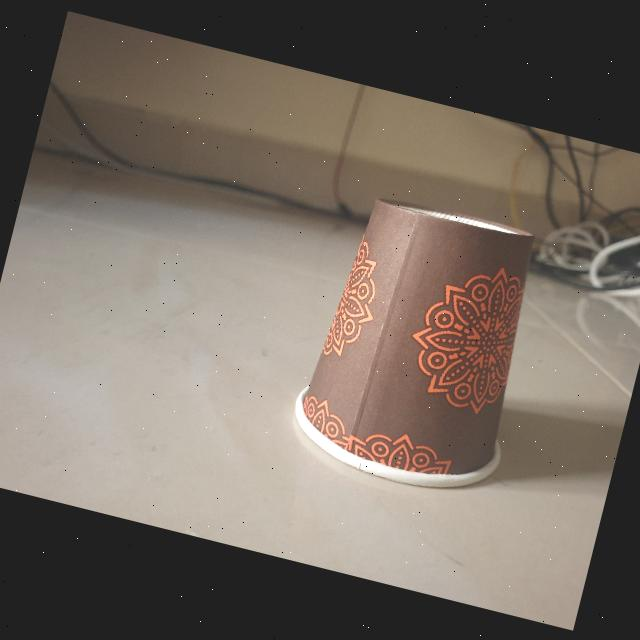trash: (274, 173, 560, 512)
